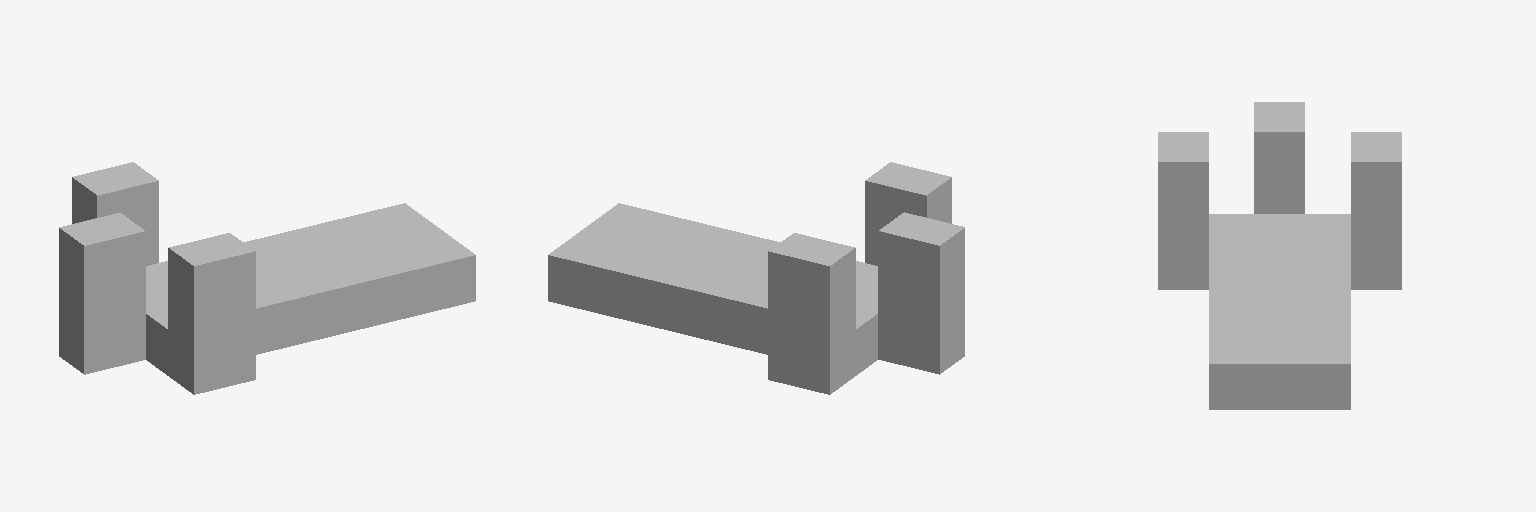
3 renders of one model, left to right at view 1: azimuth 30°, elevation 25°; view 2: azimuth 150°, elevation 25°; view 3: azimuth 270°, elevation 25°, orthographic.
Parts seen in each view (by area): view 1: mesh_1_Thick-3.001; view 2: mesh_1_Thick-3.001; view 3: mesh_1_Thick-3.001.
Part boxes in pixels (x1,y1,x2,y2): mesh_1_Thick-3.001: (59,162,475,394); mesh_1_Thick-3.001: (548,162,964,394); mesh_1_Thick-3.001: (1158,102,1401,409).
Bounding box in the file's own units: 0.15 × 0.05 × 0.086.